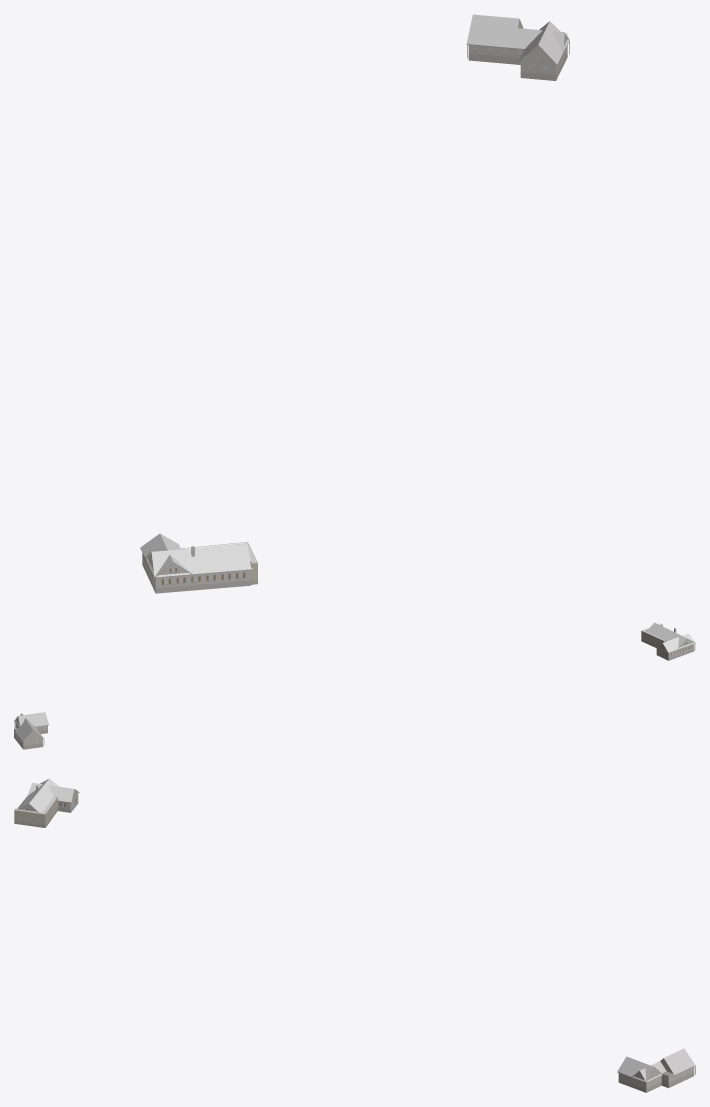
3 renders of one model, top to bottom at view 1: azimuth 30°, elevation 25°; view 2: azimuth 150°, elevation 25°; view 3: azimuth 270°, elevation 25°, orthographic. The views are drawn at different scales.
Visible parts, largest first — view 1: bld; view 2: bld; view 3: bld.
Part boxes in pixels (x1,y1,x2,y2): bld: (140,14,569,593); bld: (14,622,695,749); bld: (14,778,695,1092).
Size of the model in its own units: 216 by 14.61 by 223.
